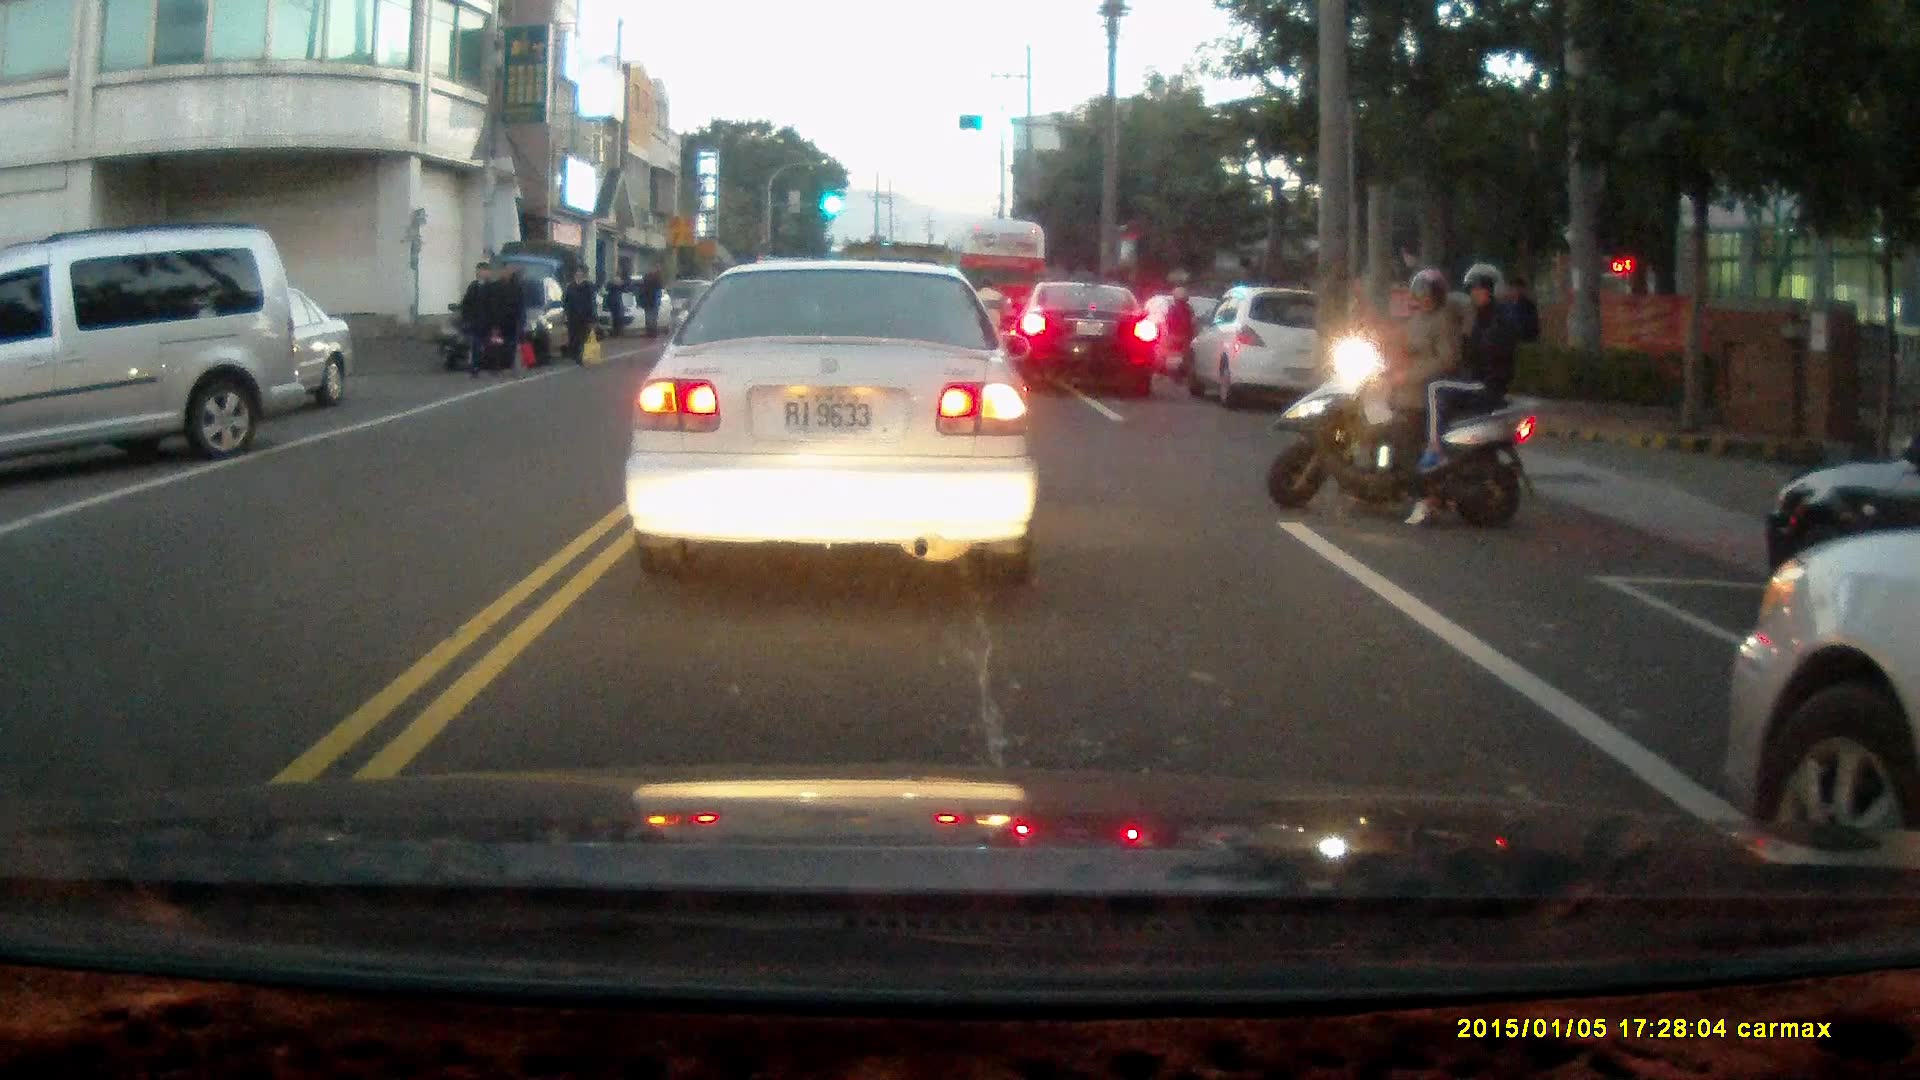pedestrian: (458, 262, 503, 385), (1495, 275, 1541, 379), (556, 263, 596, 371), (486, 264, 522, 380), (602, 266, 633, 351), (637, 268, 664, 339)
rider: (1270, 260, 1553, 534), (1159, 282, 1199, 389)
vehicle: (622, 259, 1039, 584), (1, 233, 294, 478), (1719, 540, 1920, 844), (1190, 286, 1352, 403), (1009, 282, 1160, 400), (441, 277, 581, 378)
